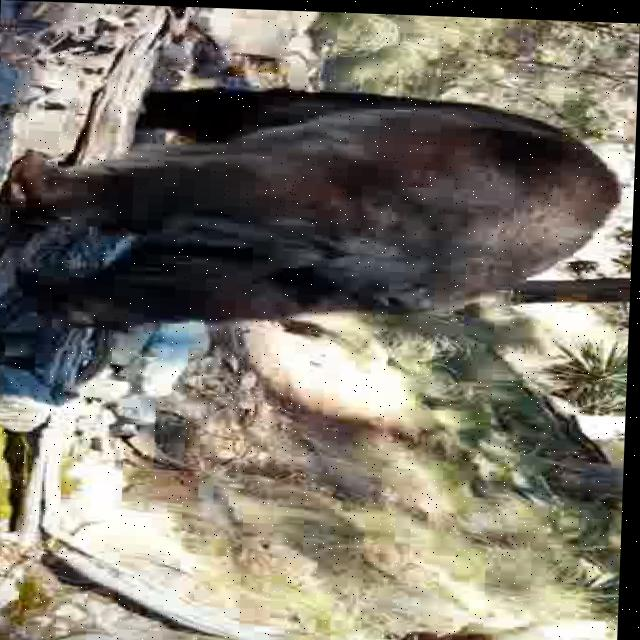bear face: (5, 80, 626, 339)
